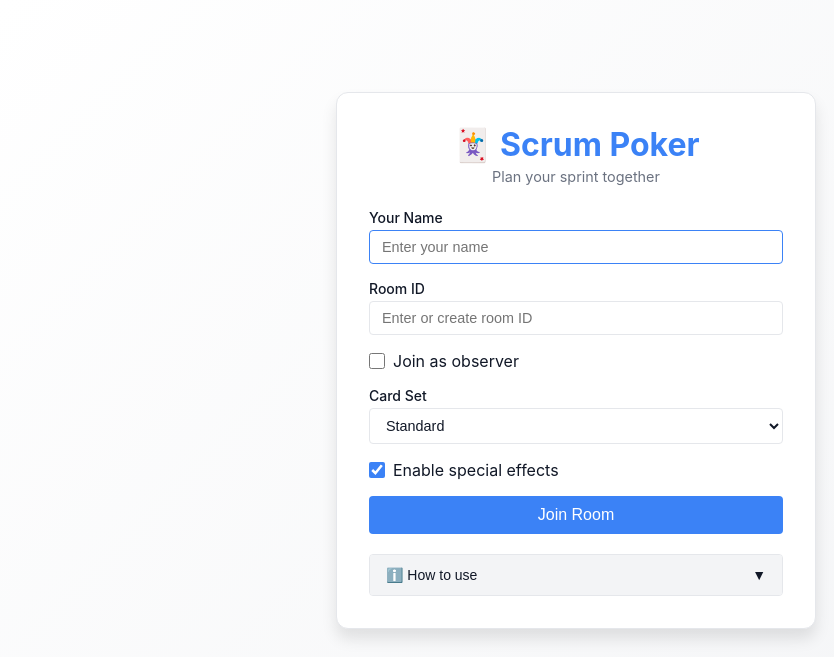
Scenario: WelcomeScreen › hides card set when observer is checked
Expected: the dropdown labelled "Card Set" is shown, [369,408,783,444]
Click the checkbox labelled "Join as observer" at point(377, 360), box [369,352,385,368]
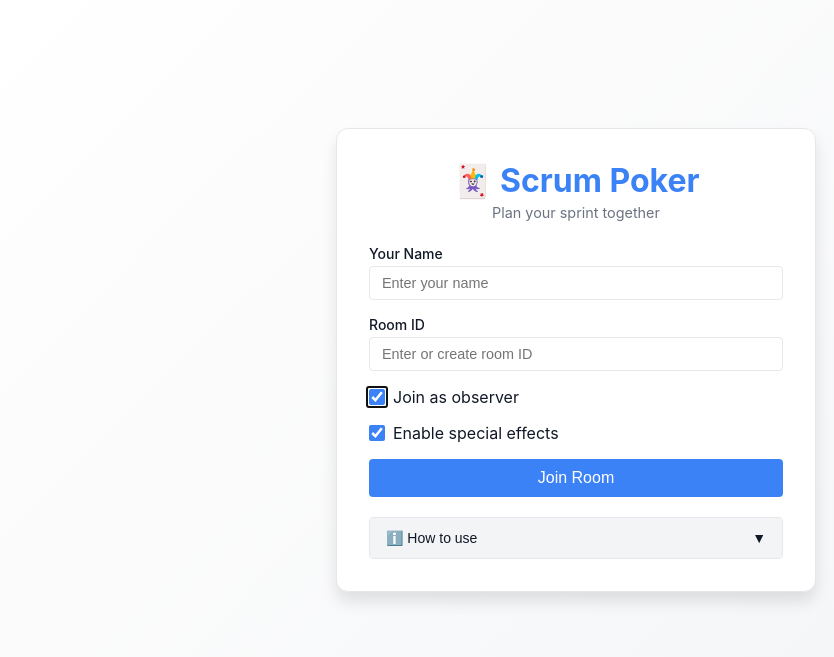
Now the label labelled "Card Set" is gone
